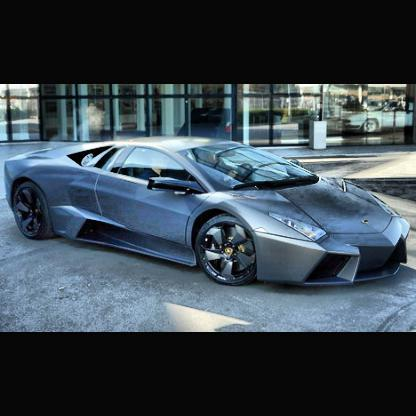Lamborghini Reventon Coupe 2008: (5, 137, 411, 289)
